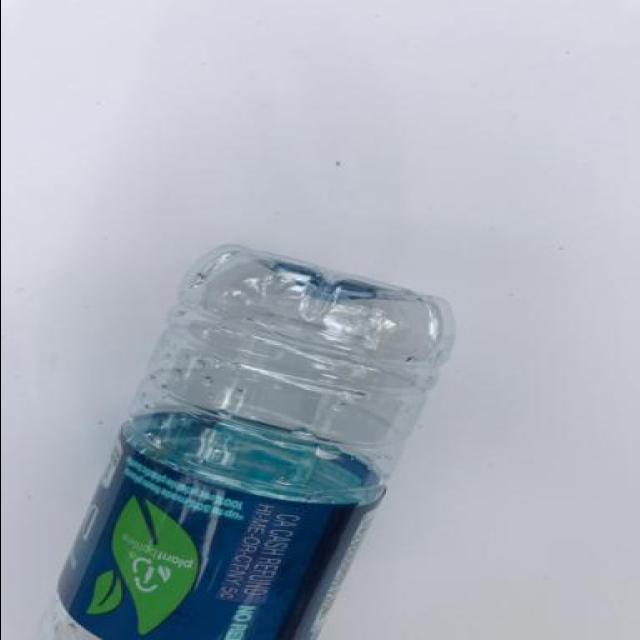PET: (35, 241, 457, 639)
